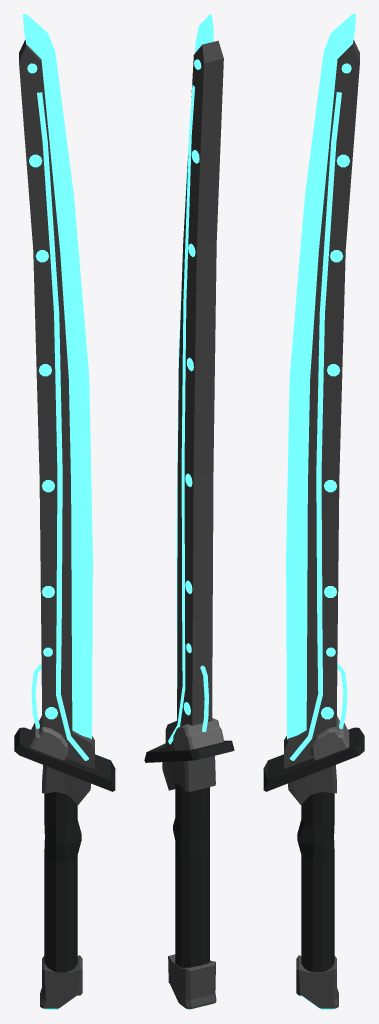
The model's file is sword.glb.
The picture shows the model from 3 angles, left to right: view 1: azimuth 90°, elevation 25°; view 2: azimuth 210°, elevation 25°; view 3: azimuth 270°, elevation 25°; orthographic projection.
Parts seen in each view (by area): view 1: Cyber-sword; view 2: Cyber-sword; view 3: Cyber-sword.
Part boxes in pixels (x1,y1,x2,y2): Cyber-sword: [14, 14, 115, 1009]; Cyber-sword: [144, 14, 234, 1009]; Cyber-sword: [263, 14, 364, 1009].
Size of the model in its own units: 0.0672 by 1.53 by 0.1416.
2 materials, 2 textured.
